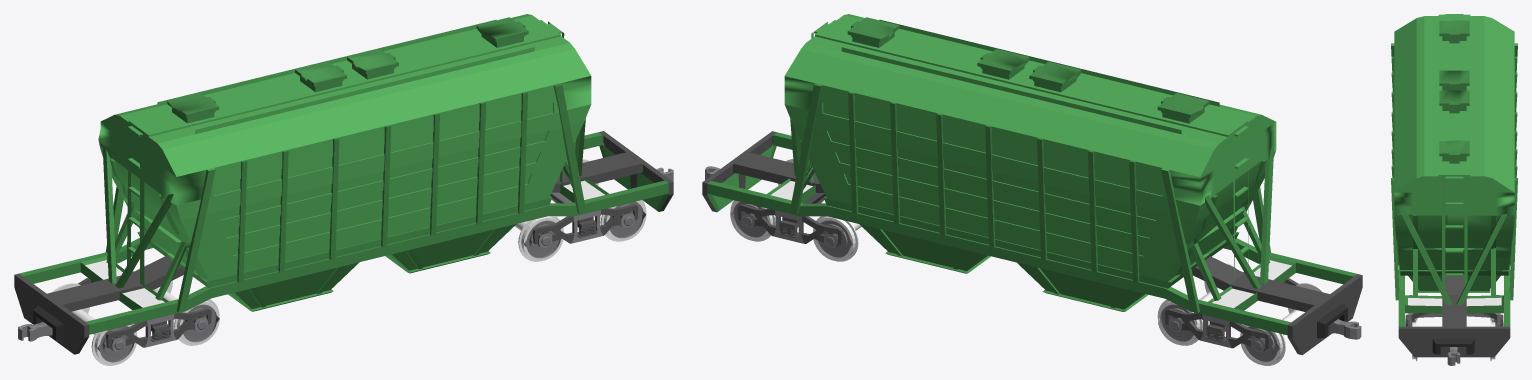
File: Train2_LOD.fbx
3 renders of one model, left to right at view 1: azimuth 30°, elevation 25°; view 2: azimuth 150°, elevation 25°; view 3: azimuth 270°, elevation 25°, orthographic. The views are drawn at different scales.
Visible parts, largest first — view 1: Train2_LOD0; view 2: Train2_LOD0; view 3: Train2_LOD0.
Part boxes in pixels (box(x1,y1,x2,y2)): Train2_LOD0: box(14, 14, 673, 365); Train2_LOD0: box(702, 14, 1362, 365); Train2_LOD0: box(1391, 14, 1517, 365).
Size of what is drawn, in the model's own units: 2181 by 698 by 461.
